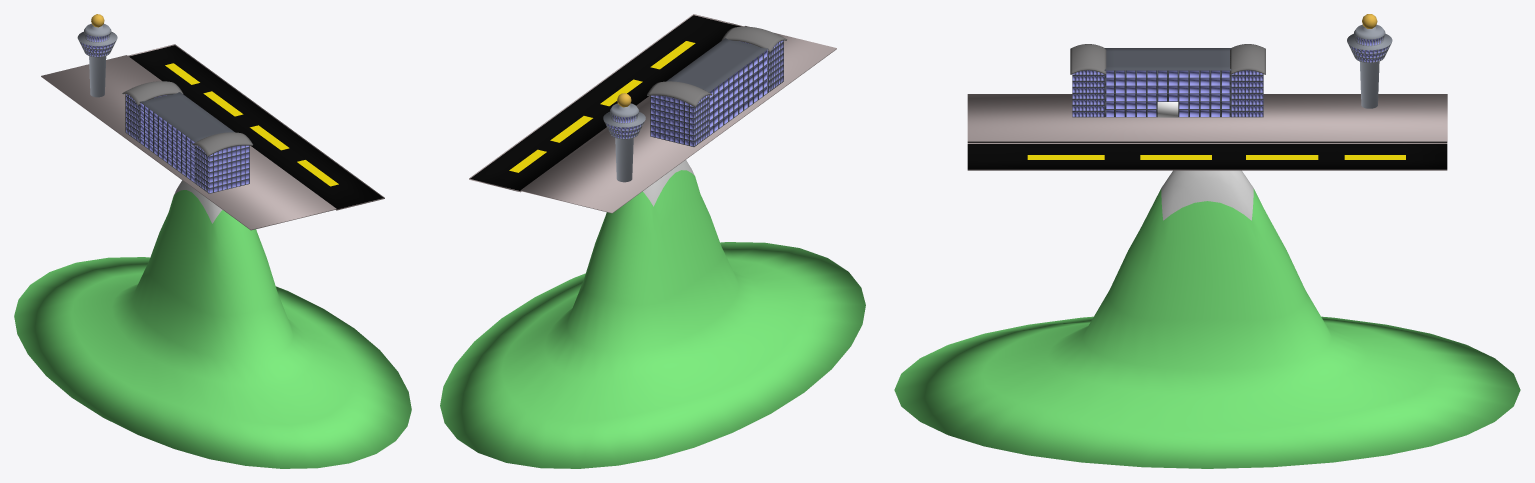
File: planeta6Minjuego.fbx
3 views of the same model, side by side, from view 1: azimuth 30°, elevation 25°; view 2: azimuth 150°, elevation 25°; view 3: azimuth 270°, elevation 25° (orthographic). The views are drawn at different scales.
Visible parts, largest first — view 1: planeta6, aeropuerto, edificioAeropuerto, torresEdificio, torreDeControl, SurfPatch; view 2: planeta6, aeropuerto, edificioAeropuerto, torresEdificio, torreDeControl, SurfPatch; view 3: planeta6, aeropuerto, edificioAeropuerto, torresEdificio, torreDeControl, SurfPatch.
Part boxes in pixels (left/top/right/bottom): planeta6: left=14, top=180, right=411, bottom=468; aeropuerto: left=41, top=44, right=384, bottom=230; edificioAeropuerto: left=139, top=92, right=234, bottom=183; torresEdificio: left=125, top=94, right=249, bottom=193; torreDeControl: left=77, top=14, right=117, bottom=97; SurfPatch: left=122, top=81, right=252, bottom=156; planeta6: left=440, top=160, right=865, bottom=468; aeropuerto: left=469, top=14, right=836, bottom=213; edificioAeropuerto: left=666, top=38, right=768, bottom=135; torresEdificio: left=650, top=40, right=783, bottom=146; torreDeControl: left=603, top=93, right=645, bottom=182; SurfPatch: left=647, top=26, right=786, bottom=107; planeta6: left=894, top=170, right=1520, bottom=468; aeropuerto: left=967, top=94, right=1447, bottom=170; edificioAeropuerto: left=1104, top=48, right=1231, bottom=117; torresEdificio: left=1072, top=70, right=1263, bottom=117; torreDeControl: left=1347, top=14, right=1392, bottom=108; SurfPatch: left=1070, top=44, right=1265, bottom=74.
Bounding box in the file's own units: 1404 × 1496 × 2354.
